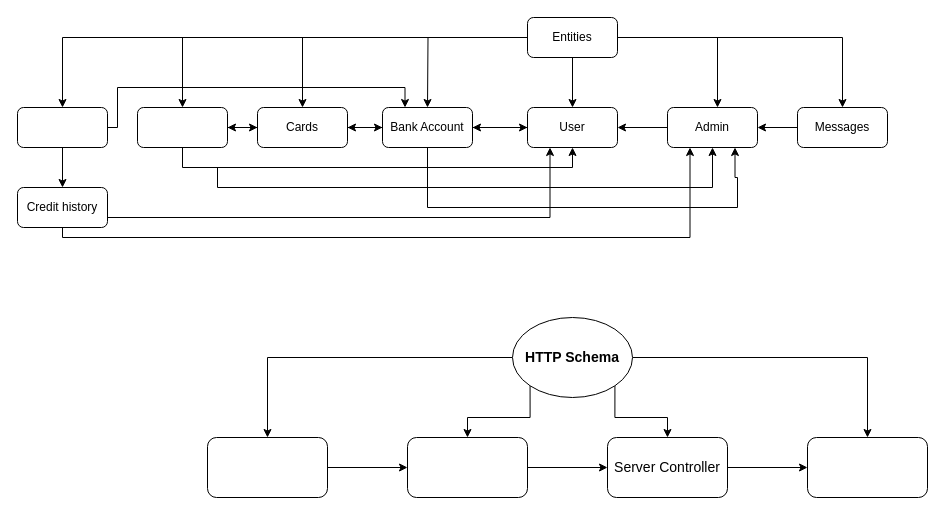
Some shapes in this 945 by 515 pixel diagram are drawn without their labels. Here are the shapes that lost their labels. From the top down, the centre of each, then its label:
At point 62,127: "Credit".
At point 182,127: "Transactions".
At point 267,467: "Store with functions (Client)".
At point 467,467: "Client Service (API call)".
At point 867,467: "Server Service (DB changes)".
